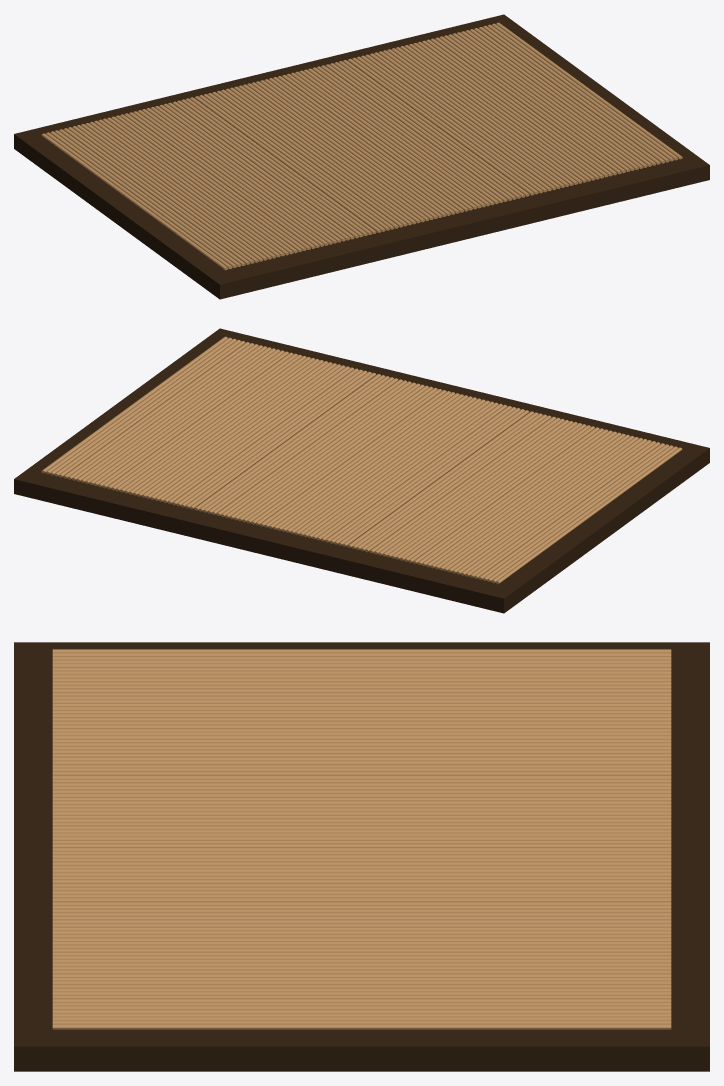
The model's file is Tatami.fbx.
3 views of the same model, one above another, from view 1: azimuth 30°, elevation 25°; view 2: azimuth 150°, elevation 25°; view 3: azimuth 270°, elevation 25° (orthographic). The views are drawn at different scales.
Visible parts, largest first — view 1: Cube, Cylinder.041, Cylinder.076, Cylinder.028, Cylinder.033, Cylinder.036, Cylinder.071, Cylinder.023, Cylinder.046, Cylinder.091, Cylinder.013, Cylinder.056 (+94 smaller); view 2: Cube, Cylinder.041, Cylinder.076, Cylinder.028, Cylinder.033, Cylinder.036, Cylinder.071, Cylinder.023, Cylinder.046, Cylinder.091, Cylinder.013, Cylinder.056 (+94 smaller); view 3: Cube, Cylinder.070, Cylinder.035, Cylinder.029, Cylinder.034, Cylinder.065, Cylinder.054, Cylinder.004, Cylinder.009, Cylinder.005, Cylinder.014, Cylinder.010 (+94 smaller).
Part boxes in pixels (x1,y1,x2,y2): Cube: [14, 14, 709, 299]; Cylinder.041: [41, 133, 228, 270]; Cylinder.076: [347, 58, 534, 195]; Cylinder.028: [195, 96, 381, 232]; Cylinder.033: [325, 64, 512, 200]; Cylinder.036: [172, 101, 359, 238]; Cylinder.071: [478, 27, 665, 163]; Cylinder.023: [216, 90, 403, 227]; Cylinder.046: [63, 128, 250, 264]; Cylinder.091: [435, 37, 621, 174]; Cylinder.013: [282, 75, 468, 211]; Cylinder.056: [129, 112, 315, 248]; Cube: [14, 328, 709, 613]; Cylinder.041: [495, 447, 682, 584]; Cylinder.076: [189, 372, 376, 509]; Cylinder.028: [342, 410, 528, 546]; Cylinder.033: [211, 378, 398, 514]; Cylinder.036: [364, 415, 551, 552]; Cylinder.071: [58, 341, 245, 477]; Cylinder.023: [320, 404, 507, 541]; Cylinder.046: [473, 442, 660, 578]; Cylinder.091: [102, 351, 288, 488]; Cylinder.013: [255, 389, 441, 525]; Cylinder.056: [408, 426, 594, 562]; Cube: [14, 642, 709, 1071]; Cylinder.070: [52, 1024, 671, 1029]; Cylinder.035: [52, 771, 671, 775]; Cylinder.029: [52, 789, 671, 793]; Cylinder.034: [52, 897, 671, 901]; Cylinder.065: [52, 717, 671, 721]; Cylinder.054: [52, 753, 671, 757]; Cylinder.004: [52, 843, 671, 847]; Cylinder.009: [52, 818, 671, 822]; Cylinder.005: [52, 825, 671, 829]; Cylinder.014: [52, 861, 671, 865]; Cylinder.010: [52, 854, 671, 858].
Bounding box in the file's own units: 309 × 11.63 × 225.
